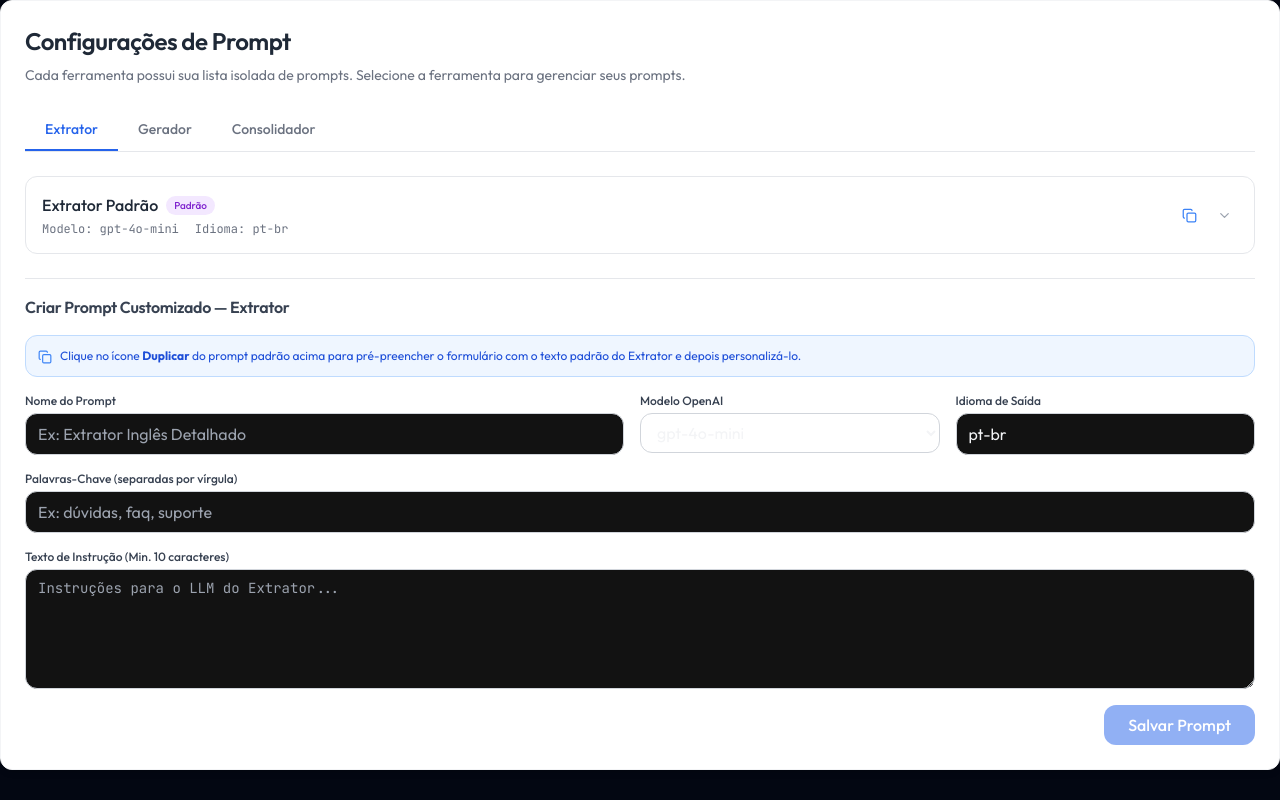
Test: PromptSettings Component › switches tool tabs and loads scoped prompts
# Switch to gerador
What coordinates should you click on to do the following:
click the button "Gerador"
I would click on:
 (165, 130)
Its box is [118,109,212,151].
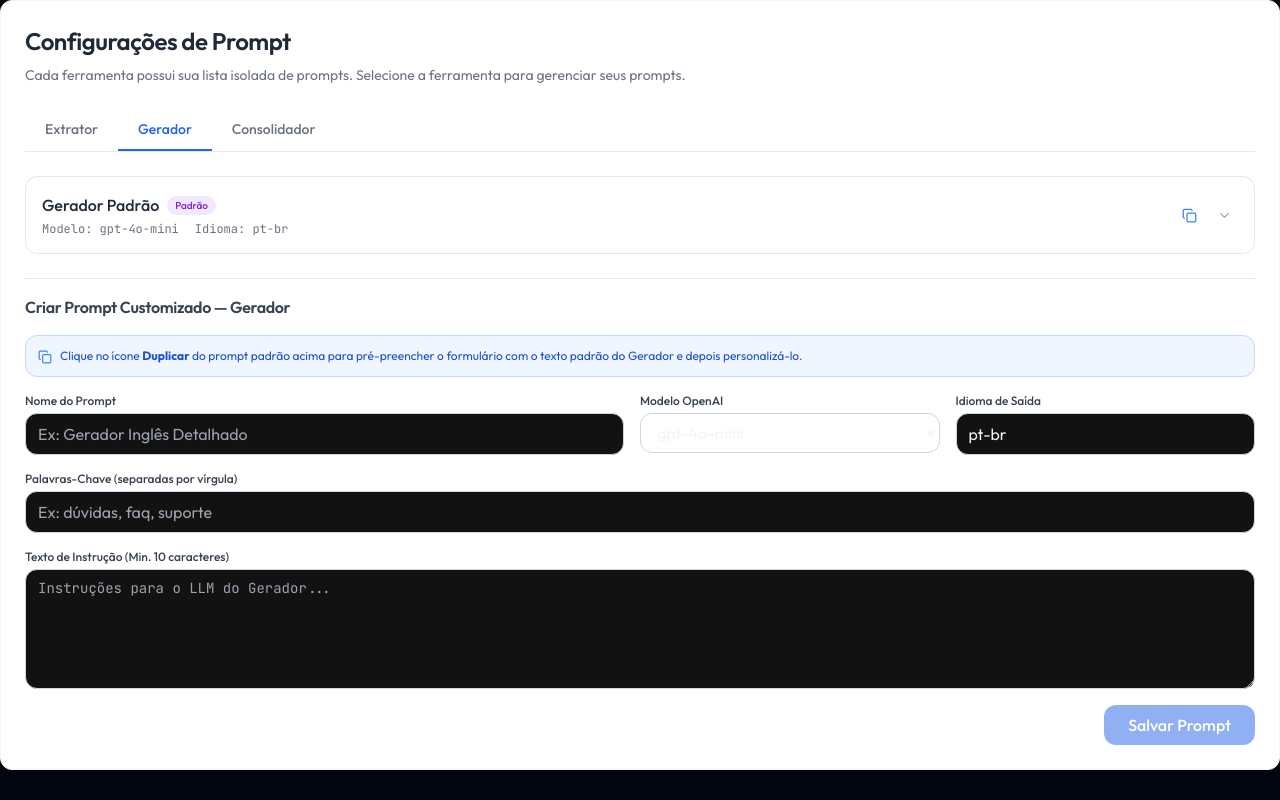
Check: the text "Gerador Padrão" is shown, box [42,193,159,217]
Check: the text "Extrator Padrão" is gone
